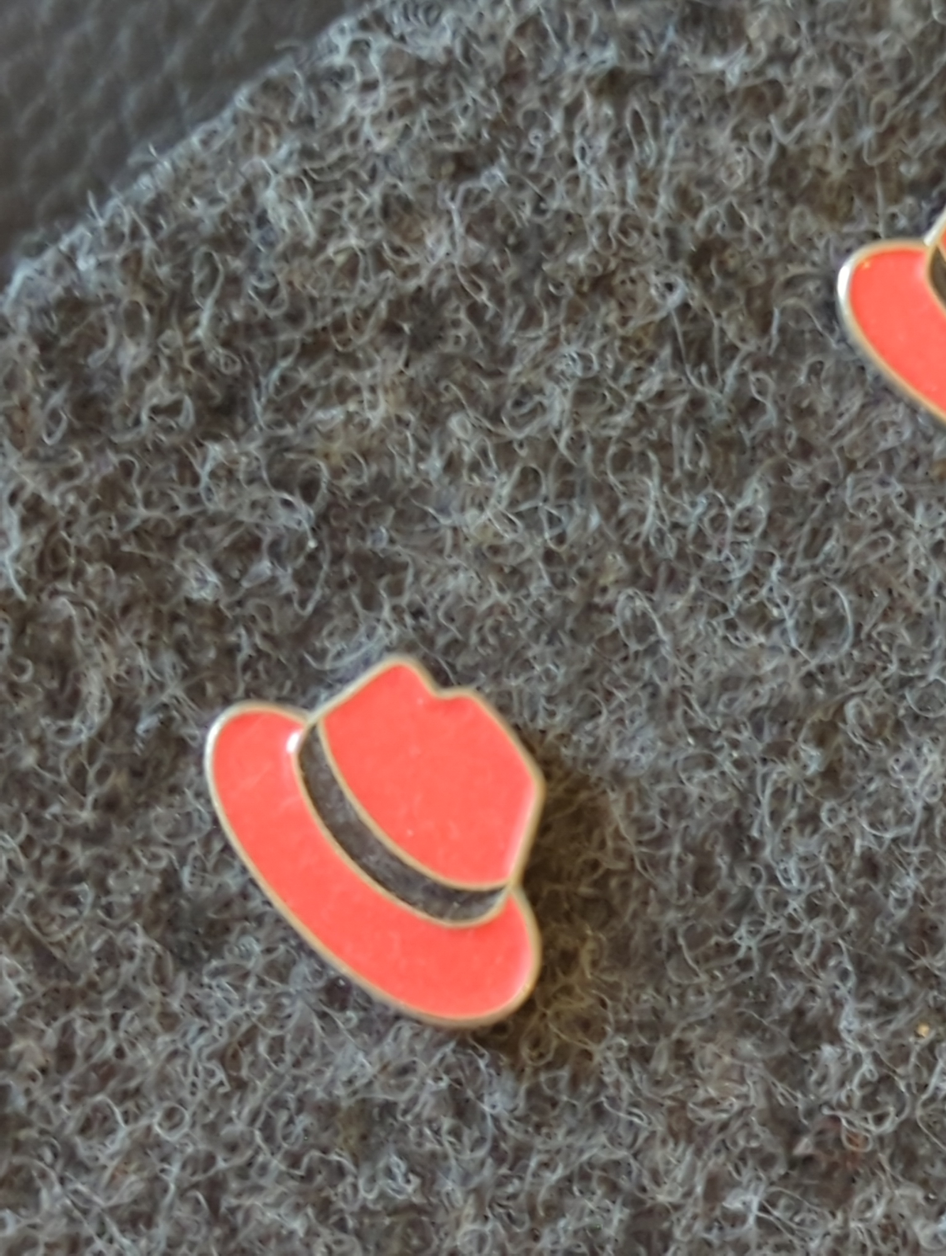Red-Hat: (103, 568, 695, 1124)
